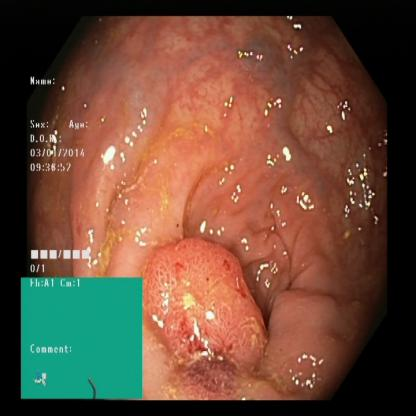Labels: (24, 72, 100, 280), (20, 277, 140, 400)
Polyps: (146, 243, 254, 370)
